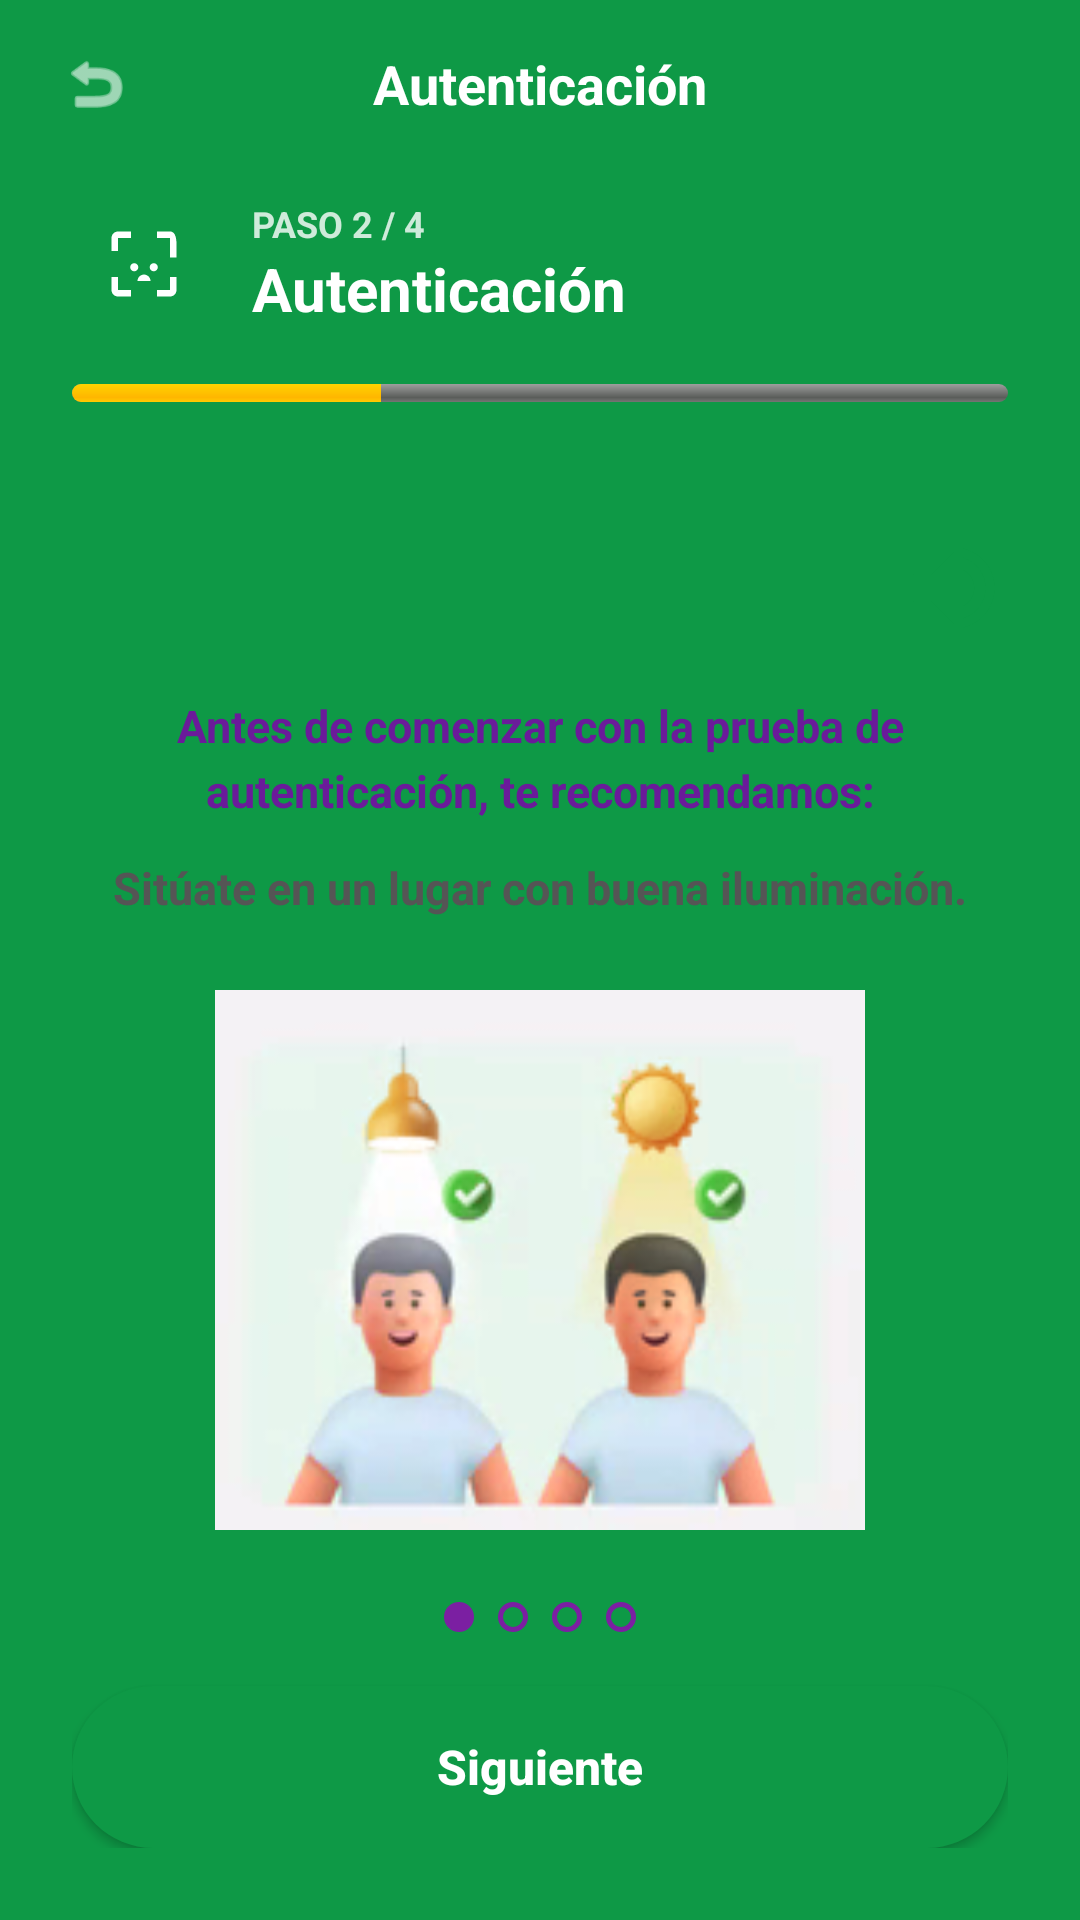

Icon click points for this 1080x1920 phone screenshot, format point (x, y):
Back: point (97, 84)
Face Scan: point (144, 264)
